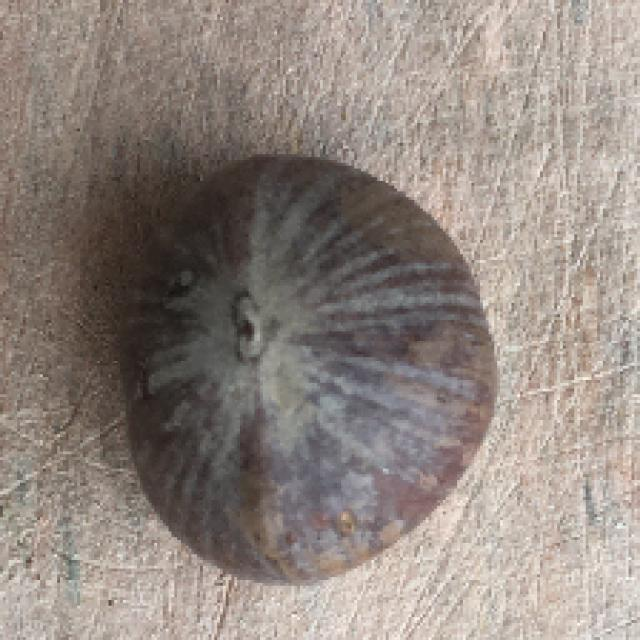damagedHazelnut: (106, 148, 516, 595)
